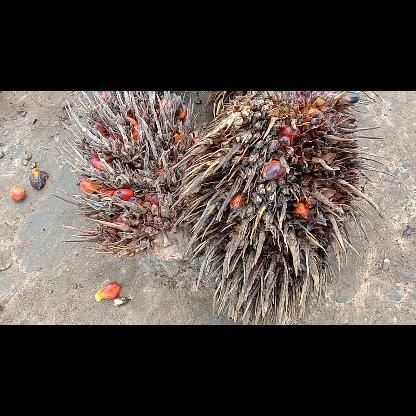Terlalu masak: (164, 90, 392, 324), (50, 91, 206, 267)
